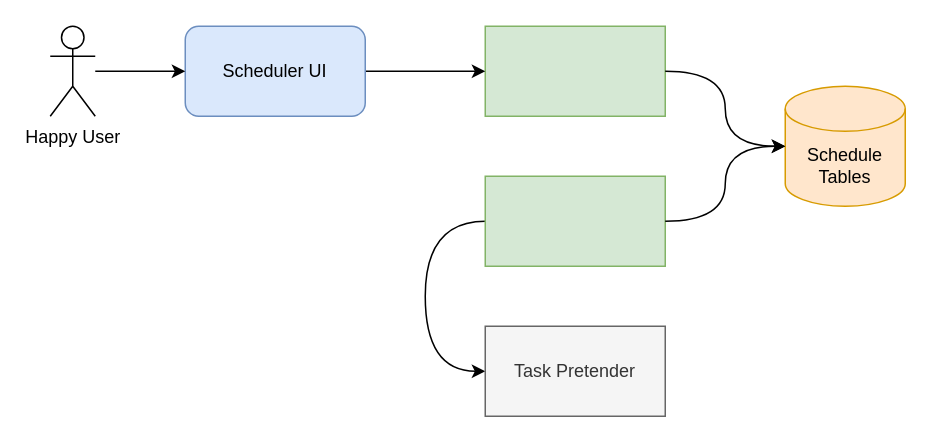
Some shapes in this 932 by 443 pixel diagram are drawn without their labels. Each missing label, with the centre of its shape:
Schedule Assistant (CRUD API): (x=574, y=70)
Scheduler: (x=574, y=220)
